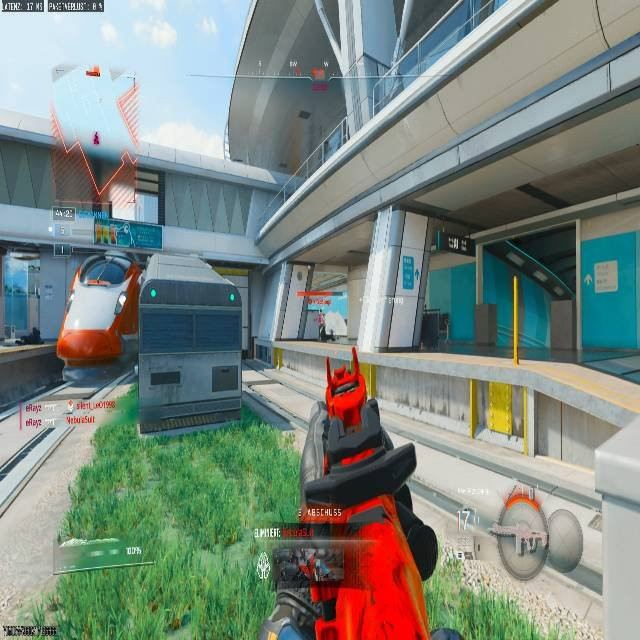player: (317, 317, 331, 340), (315, 311, 326, 338)
